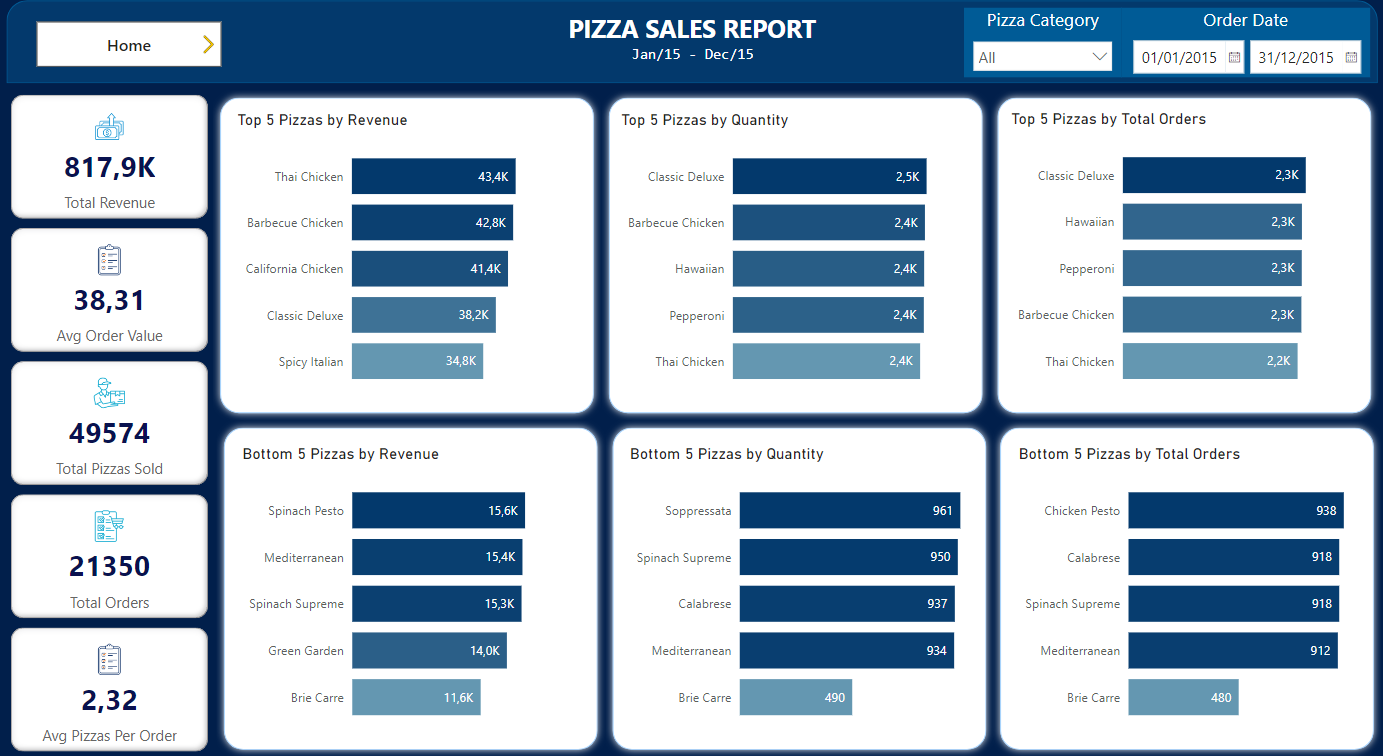

The dashboard page shown, as its layout file describes it:
{"tool":"powerbi","page":{"name":"Best/Worst Sellers","canvas":[1500,820],"ordinal":1},"visuals":[{"type":"shape","box":[1074.3,455.7,420,364.3],"z":0},{"type":"shape","box":[655.7,455.7,420,364.3],"z":1000},{"type":"shape","box":[235.7,455.7,420,364.3],"z":2000},{"type":"shape","box":[1071.4,98.6,420,357.1],"z":3000},{"type":"shape","box":[651.4,98.6,420,357.1],"z":4000},{"type":"shape","box":[231.4,98.6,420,357.1],"z":5000},{"type":"shape","box":[8.2,1.4,1482.6,89.9],"z":6000},{"type":"barChart","title":"Top 5 Pizzas by Revenue","fields":{"Y":["orders.Total Revenue"],"Category":["pizzas.short_pizza_name"]},"box":[252.9,120,378.6,317.1],"z":7000},{"type":"barChart","title":"Bottom 5 Pizzas by Revenue","fields":{"Y":["orders.Total Revenue"],"Category":["pizzas.short_pizza_name"]},"box":[258.6,481.4,368.6,320],"z":8000},{"type":"barChart","title":"Top 5 Pizzas by Quantity","fields":{"Y":["Sum(orders.quantity)"],"Category":["pizzas.short_pizza_name"]},"box":[667.1,120,387.1,317.1],"z":9000},{"type":"barChart","title":"Top 5 Pizzas by Total Orders","fields":{"Y":["orders.Total Orders"],"Category":["pizzas.short_pizza_name"]},"box":[1088.6,118.6,385.7,318.6],"z":10000},{"type":"barChart","title":"Bottom 5 Pizzas by Quantity","fields":{"Y":["Sum(orders.quantity)"],"Category":["pizzas.short_pizza_name"]},"box":[677.1,481.4,377.1,320],"z":11000},{"type":"barChart","title":"Bottom 5 Pizzas by Total Orders","fields":{"Y":["orders.Total Orders"],"Category":["pizzas.short_pizza_name"]},"box":[1097.1,481.4,377.1,320],"z":12000},{"type":"pageNavigator","box":[40.9,24.5,200.3,49.1],"z":13000},{"type":"image","box":[211.7,20.8,29.2,56.7],"z":14000},{"type":"textbox","box":[602.3,8.2,293,49.1],"z":15000},{"type":"textbox","box":[610.5,46.3,278,31.3],"z":16000},{"type":"slicer","title":"Pizza Category","fields":{"Values":["pizzas.pizza_category"]},"box":[1042.8,9.3,170.3,74.9],"z":17000},{"type":"slicer","title":"Order Date","fields":{"Values":["orders.order_date"]},"box":[1213.2,9.3,268.4,74.9],"z":18000},{"type":"cardVisual","fields":{"Data":["orders.Total Revenue","orders.Avg Order Value","orders.Total Pizzas Sold","orders.Total Orders","orders.Avg Pizzas Per Order"]},"box":[8.2,99.2,223.5,720.8],"z":19000}]}

Visuals, with their boxes in screenshot pixels (x1, y1, x2, y2), scaled from the page's 1500x820 canvas onto the 1383x756 screenshot:
shape: box(991, 420, 1378, 755)
shape: box(605, 420, 992, 755)
shape: box(217, 420, 605, 755)
shape: box(988, 91, 1375, 420)
shape: box(601, 91, 988, 420)
shape: box(213, 91, 601, 420)
shape: box(8, 1, 1375, 84)
"Top 5 Pizzas by Revenue" barChart: box(233, 111, 582, 403)
"Bottom 5 Pizzas by Revenue" barChart: box(238, 444, 578, 739)
"Top 5 Pizzas by Quantity" barChart: box(615, 111, 972, 403)
"Top 5 Pizzas by Total Orders" barChart: box(1004, 109, 1359, 403)
"Bottom 5 Pizzas by Quantity" barChart: box(624, 444, 972, 739)
"Bottom 5 Pizzas by Total Orders" barChart: box(1012, 444, 1359, 739)
pageNavigator: box(38, 23, 222, 68)
image: box(195, 19, 222, 71)
textbox: box(555, 8, 825, 53)
textbox: box(563, 43, 819, 72)
"Pizza Category" slicer: box(961, 9, 1118, 78)
"Order Date" slicer: box(1119, 9, 1366, 78)
cardVisual - orders.Total Revenue x orders.Avg Order Value: box(8, 91, 214, 755)
